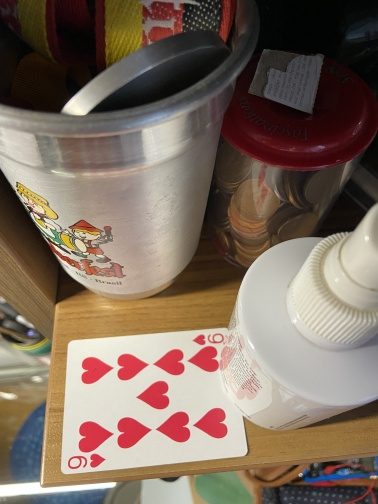nine: (58, 325, 250, 475)
